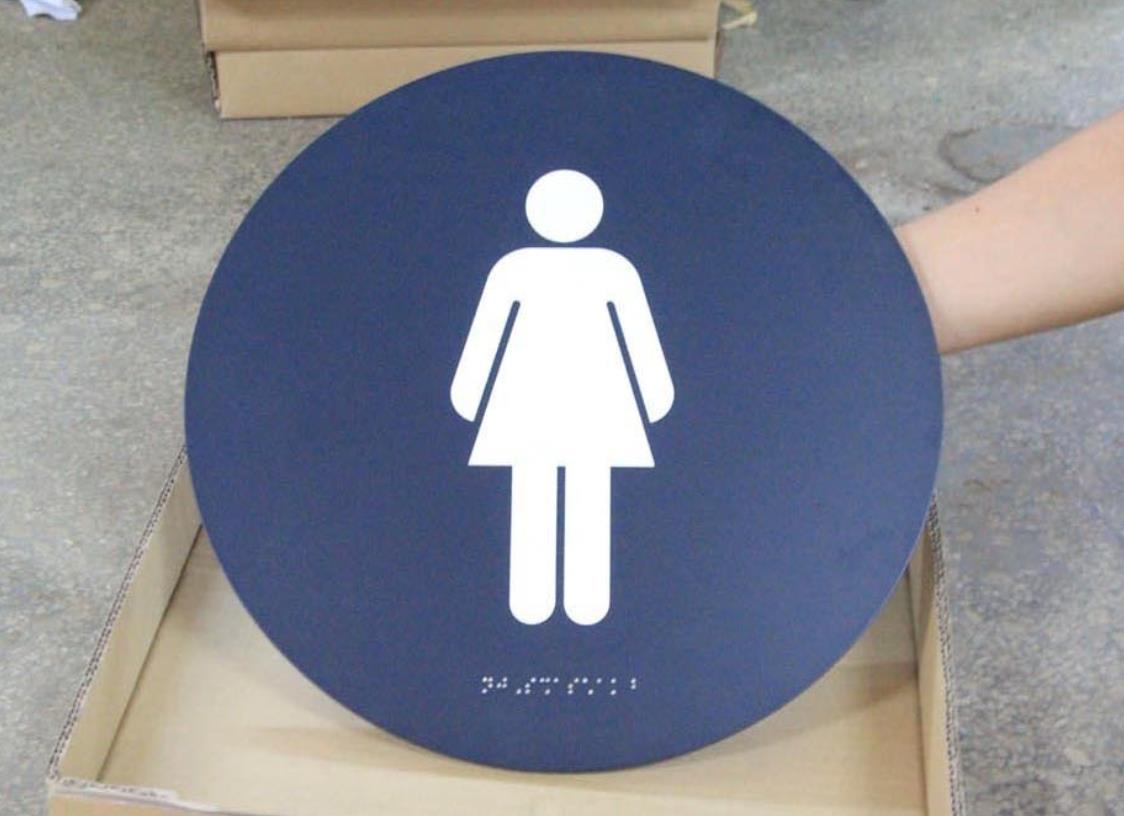Braille: (538, 676, 553, 698), (580, 676, 595, 698), (566, 675, 580, 698), (551, 676, 566, 697), (609, 677, 624, 698), (624, 677, 639, 698), (595, 677, 609, 698), (481, 674, 494, 696), (496, 676, 509, 697), (510, 676, 523, 697), (524, 676, 537, 697)
